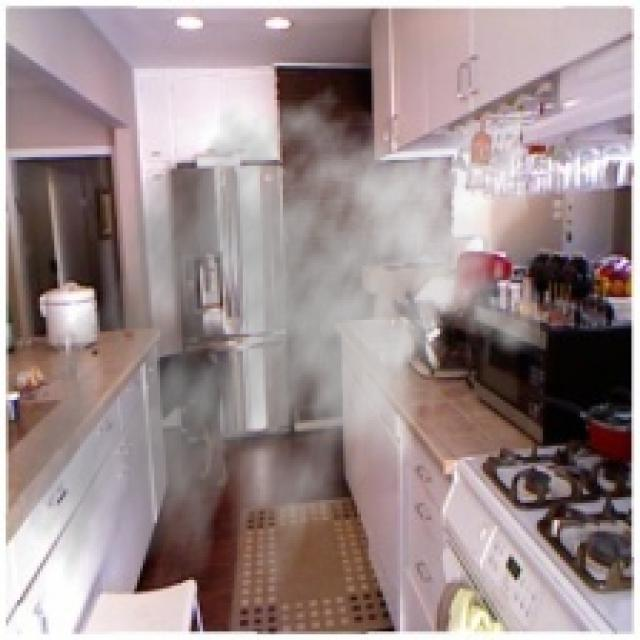smoke: (8, 69, 543, 632)
